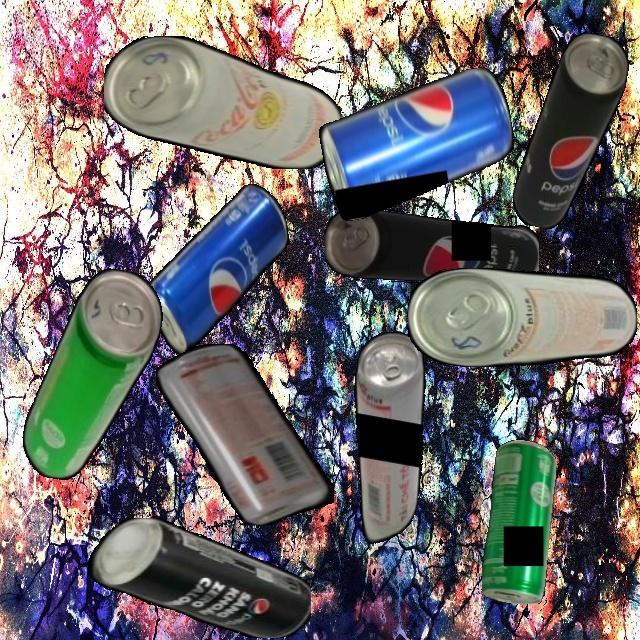debris: (17, 259, 169, 492), (313, 64, 523, 223), (156, 343, 334, 525), (104, 35, 342, 169), (130, 180, 305, 357), (81, 518, 311, 638), (327, 327, 445, 550), (509, 26, 633, 237), (408, 267, 637, 367), (325, 207, 539, 285), (481, 439, 556, 604)
